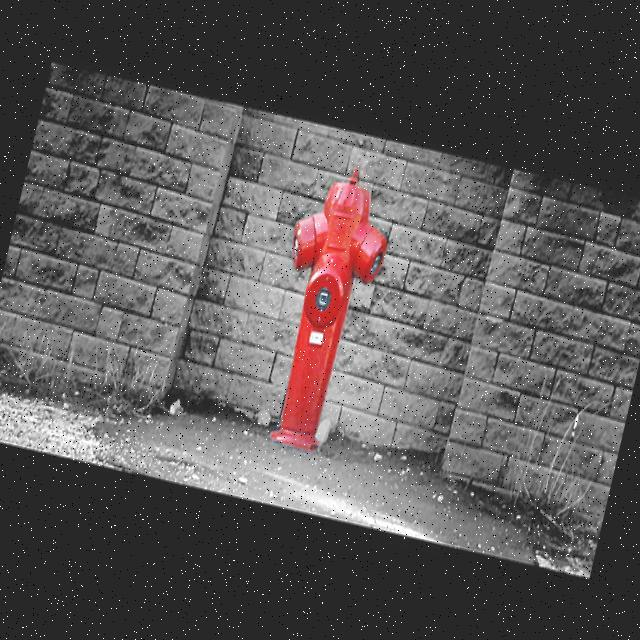fire_hydrant: (244, 154, 403, 458)
